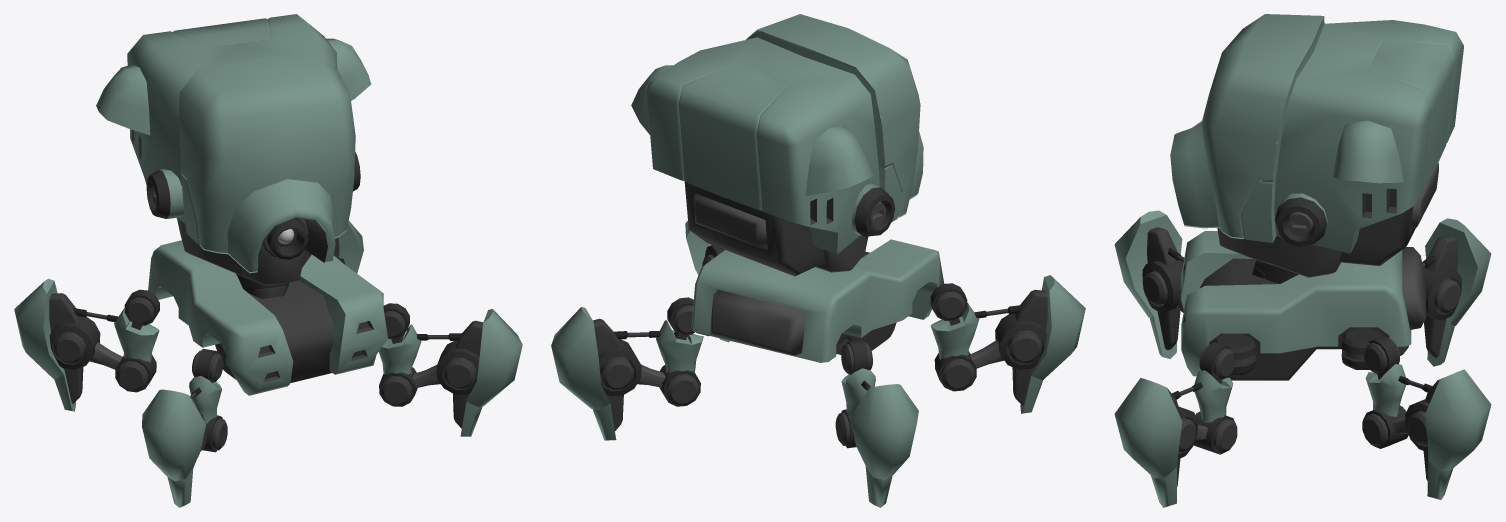
The model's file is 4legMech-1.fbx.
3 views of the same model, side by side, from view 1: azimuth 30°, elevation 25°; view 2: azimuth 150°, elevation 25°; view 3: azimuth 270°, elevation 25° (orthographic). The views are drawn at different scales.
Parts seen in each view (by area): view 1: Cube.004, Cube, Cube.001, Cube.003, Cube.006; view 2: Cube, Cube.001, Cube.006, Cube.003, Cube.004; view 3: Cube, Cube.001, Cube.004, Cube.006, Cube.003, Cube.007, Cube.005.
Part boxes in pixels (<box>): Cube.004: <box>179,54,355,272</box>; Cube: <box>96,14,371,298</box>; Cube.001: <box>148,240,387,395</box>; Cube.003: <box>142,303,522,507</box>; Cube.006: <box>14,220,363,411</box>; Cube: <box>631,31,917,276</box>; Cube.001: <box>691,239,944,362</box>; Cube.006: <box>551,297,918,507</box>; Cube.003: <box>685,221,1085,413</box>; Cube.004: <box>746,14,923,216</box>; Cube: <box>1184,17,1463,283</box>; Cube.001: <box>1181,231,1425,380</box>; Cube.004: <box>1170,14,1324,237</box>; Cube.006: <box>1362,218,1491,499</box>; Cube.003: <box>1114,210,1237,507</box>; Cube.007: <box>1341,328,1383,369</box>; Cube.005: <box>1213,333,1256,375</box>.
Bounding box in the file's own units: 288 × 233 × 266.
